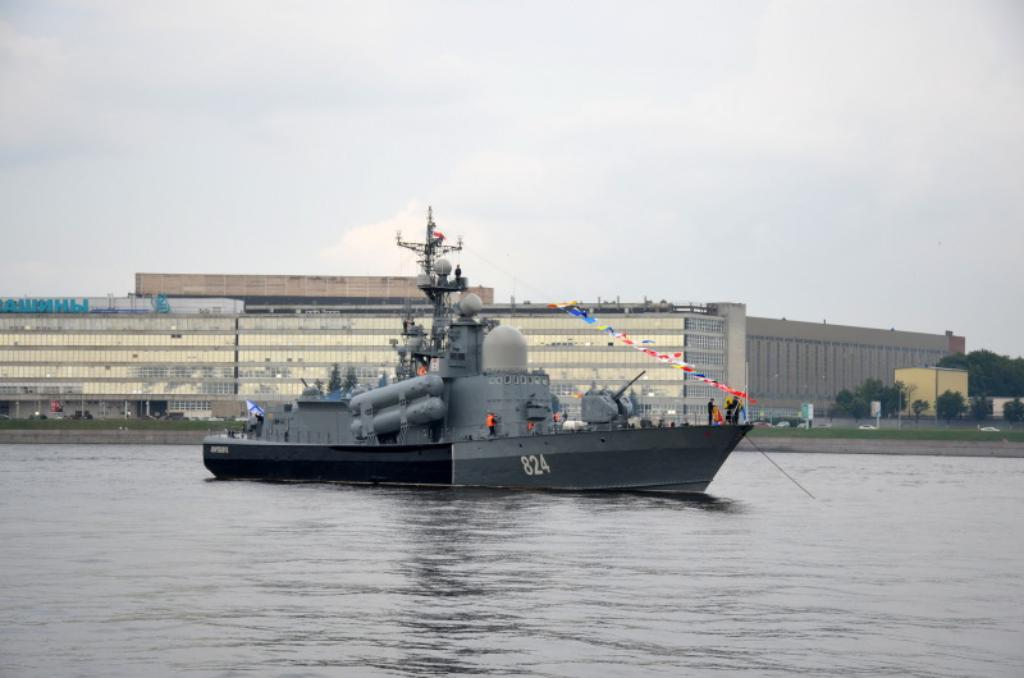Warship: (199, 203, 753, 502)
